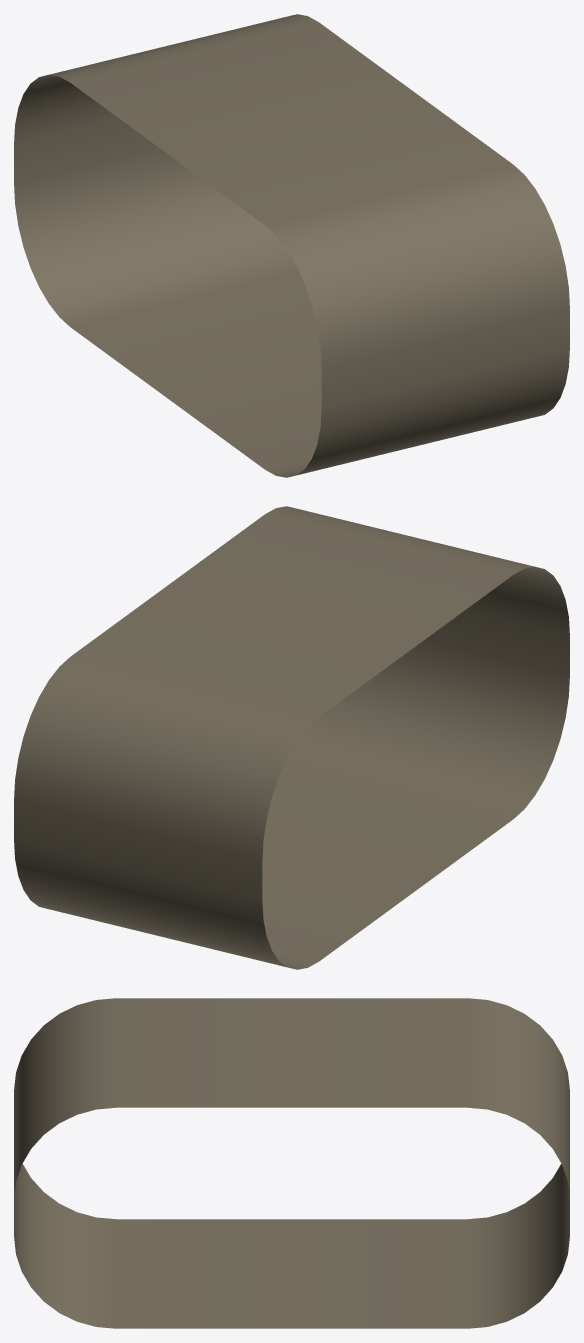
The model's file is SM_wall_int_combo_02.fbx.
3 views of the same model, one above another, from view 1: azimuth 30°, elevation 25°; view 2: azimuth 150°, elevation 25°; view 3: azimuth 270°, elevation 25° (orthographic). The views are drawn at different scales.
Visible parts, largest first — view 1: wall_int_combo02; view 2: wall_int_combo02; view 3: wall_int_combo02.
Part boxes in pixels (x1=…): wall_int_combo02: x1=14, y1=14, x2=569, y2=477; wall_int_combo02: x1=14, y1=506, x2=569, y2=969; wall_int_combo02: x1=14, y1=998, x2=569, y2=1328.
Bounding box in the file's own units: 292 × 275 × 627.
